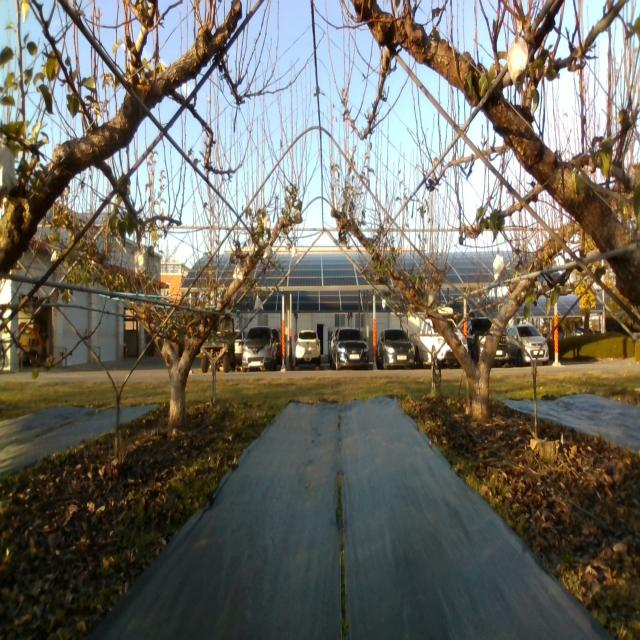pearbags: (507, 34, 528, 93), (0, 144, 18, 200), (134, 248, 148, 276), (492, 254, 506, 279), (232, 261, 243, 282)
